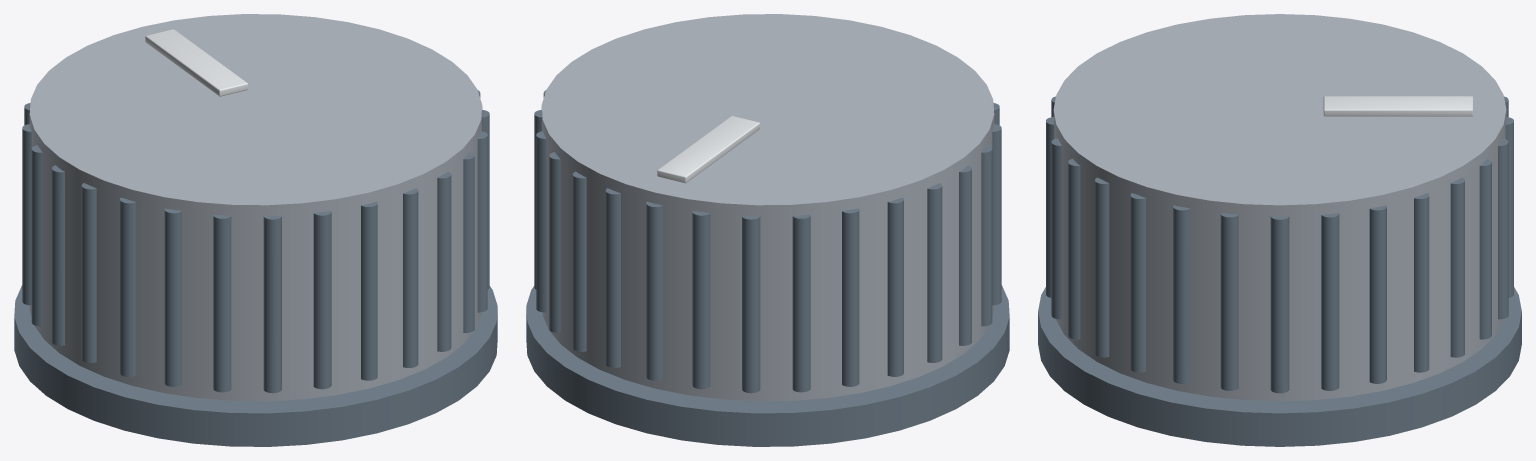
File: GUARD.glb
3 renders of one model, left to right at view 1: azimuth 30°, elevation 25°; view 2: azimuth 150°, elevation 25°; view 3: azimuth 270°, elevation 25°, orthographic.
Visible parts, largest first — view 1: GUARD/0000_grip, GUARD/0001_flange, GUARD/0020_knurl, GUARD/0022_knurl, GUARD/0021_knurl, GUARD/0019_knurl, GUARD/0018_knurl, GUARD/0023_knurl, GUARD/0017_knurl, GUARD/0024_knurl, GUARD/0030_index_mark, GUARD/0025_knurl (+6 smaller); view 2: GUARD/0000_grip, GUARD/0001_flange, GUARD/0012_knurl, GUARD/0010_knurl, GUARD/0011_knurl, GUARD/0013_knurl, GUARD/0009_knurl, GUARD/0014_knurl, GUARD/0015_knurl, GUARD/0008_knurl, GUARD/0030_index_mark, GUARD/0007_knurl (+6 smaller); view 3: GUARD/0000_grip, GUARD/0001_flange, GUARD/0002_knurl, GUARD/0003_knurl, GUARD/0029_knurl, GUARD/0004_knurl, GUARD/0028_knurl, GUARD/0030_index_mark, GUARD/0005_knurl, GUARD/0027_knurl, GUARD/0006_knurl, GUARD/0026_knurl (+6 smaller).
Part boxes in pixels (<box>): GUARD/0000_grip: <box>29,14,482,401</box>; GUARD/0001_flange: <box>14,285,497,446</box>; GUARD/0020_knurl: <box>213,214,231,392</box>; GUARD/0022_knurl: <box>313,211,331,389</box>; GUARD/0021_knurl: <box>263,215,281,393</box>; GUARD/0019_knurl: <box>164,208,181,386</box>; GUARD/0018_knurl: <box>120,197,136,376</box>; GUARD/0023_knurl: <box>361,201,377,380</box>; GUARD/0017_knurl: <box>81,183,96,362</box>; GUARD/0024_knurl: <box>403,188,418,367</box>; GUARD/0030_index_mark: <box>145,29,247,96</box>; GUARD/0025_knurl: <box>437,171,451,351</box>; GUARD/0000_grip: <box>541,14,994,401</box>; GUARD/0001_flange: <box>526,285,1009,446</box>; GUARD/0012_knurl: <box>792,214,810,392</box>; GUARD/0010_knurl: <box>692,211,710,389</box>; GUARD/0011_knurl: <box>742,215,760,393</box>; GUARD/0013_knurl: <box>842,208,859,386</box>; GUARD/0009_knurl: <box>646,201,662,380</box>; GUARD/0014_knurl: <box>887,197,903,376</box>; GUARD/0015_knurl: <box>927,183,942,362</box>; GUARD/0008_knurl: <box>605,188,620,367</box>; GUARD/0030_index_mark: <box>657,116,759,183</box>; GUARD/0007_knurl: <box>572,171,586,351</box>; GUARD/0000_grip: <box>1053,14,1506,401</box>; GUARD/0001_flange: <box>1038,287,1521,446</box>; GUARD/0002_knurl: <box>1270,216,1289,393</box>; GUARD/0003_knurl: <box>1321,213,1339,390</box>; GUARD/0029_knurl: <box>1220,213,1238,390</box>; GUARD/0004_knurl: <box>1369,205,1386,383</box>; GUARD/0028_knurl: <box>1173,205,1190,383</box>; GUARD/0030_index_mark: <box>1323,96,1472,116</box>; GUARD/0005_knurl: <box>1414,193,1429,372</box>; GUARD/0027_knurl: <box>1130,193,1145,372</box>; GUARD/0006_knurl: <box>1450,177,1464,357</box>; GUARD/0026_knurl: <box>1095,177,1109,357</box>.
Size of the model in its own units: 0.0329 by 0.0182 by 0.0329.
